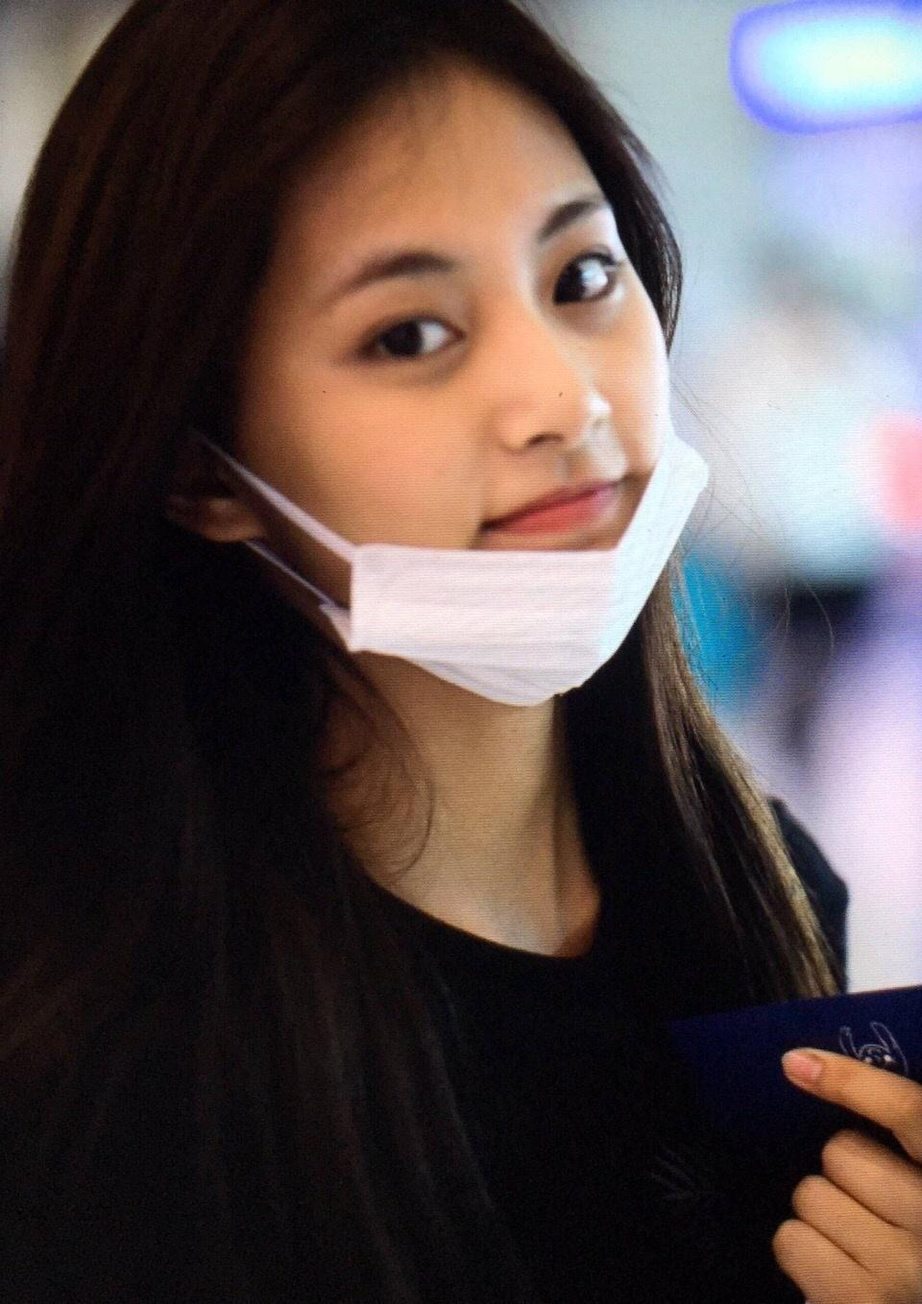WRONG: (255, 214, 702, 690)
